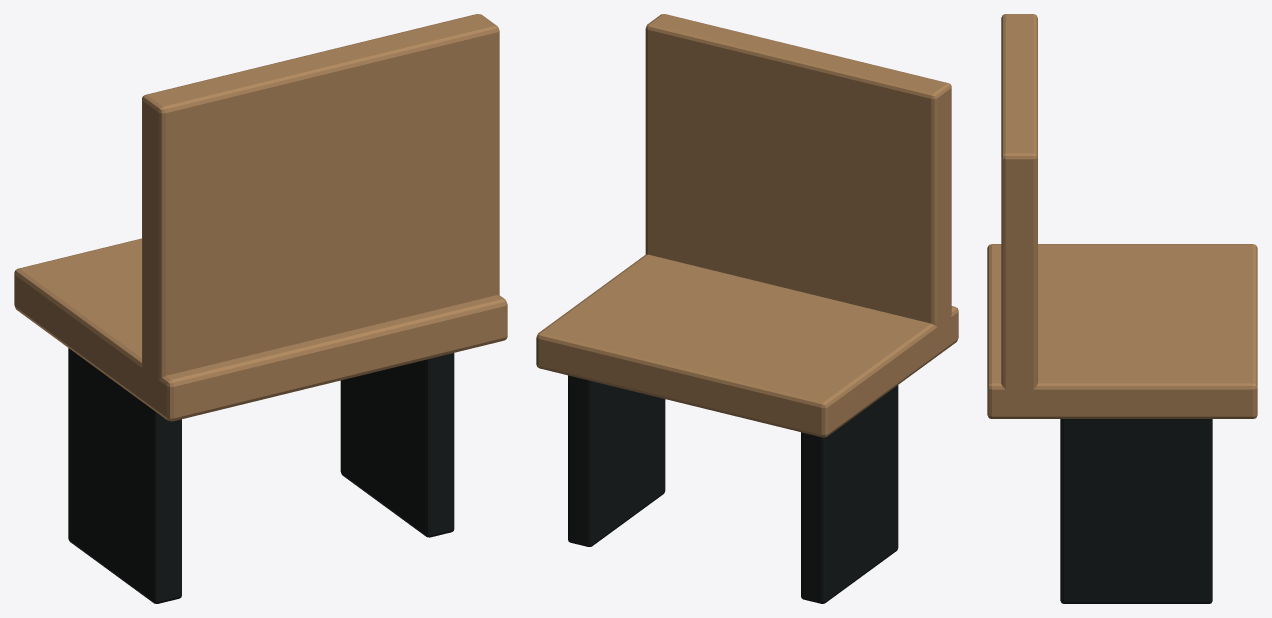
File: best.glb
3 renders of one model, left to right at view 1: azimuth 30°, elevation 25°; view 2: azimuth 150°, elevation 25°; view 3: azimuth 270°, elevation 25°, orthographic. The views are drawn at different scales.
Parts seen in each view (by area): view 1: starbucksChair_1, starbucksChair_0, starbucksChair_2, starbucksChair_3; view 2: starbucksChair_1, starbucksChair_0, starbucksChair_2, starbucksChair_3; view 3: starbucksChair_0, starbucksChair_3, starbucksChair_1.
Boxes of the visible parts, x1,y1,x2,y2 form: starbucksChair_1: (142,14,499,381); starbucksChair_0: (14,238,507,421); starbucksChair_2: (68,348,181,603); starbucksChair_3: (340,353,454,537); starbucksChair_1: (645,14,951,328); starbucksChair_0: (536,254,958,437); starbucksChair_2: (801,385,898,603); starbucksChair_3: (568,375,665,546); starbucksChair_0: (987,244,1257,418); starbucksChair_3: (1060,419,1212,603); starbucksChair_1: (1001,14,1037,391).
Size of the model in its own units: 0.6 by 0.89 by 0.48.
